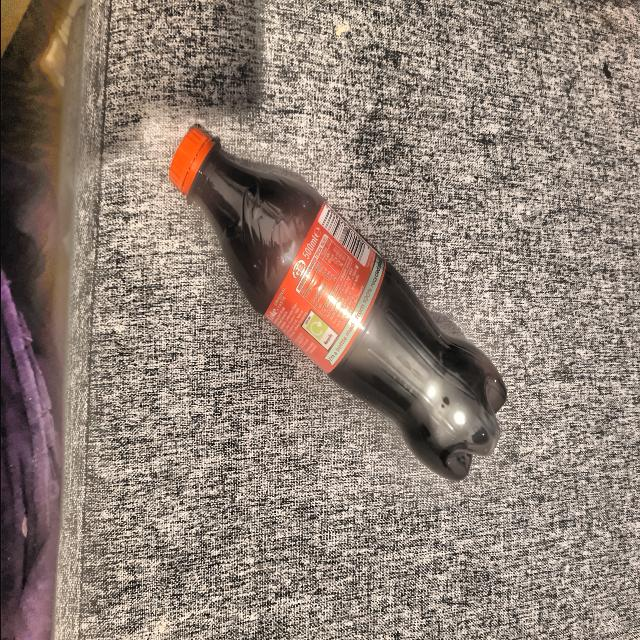coke-bottle: (168, 138, 498, 486)
